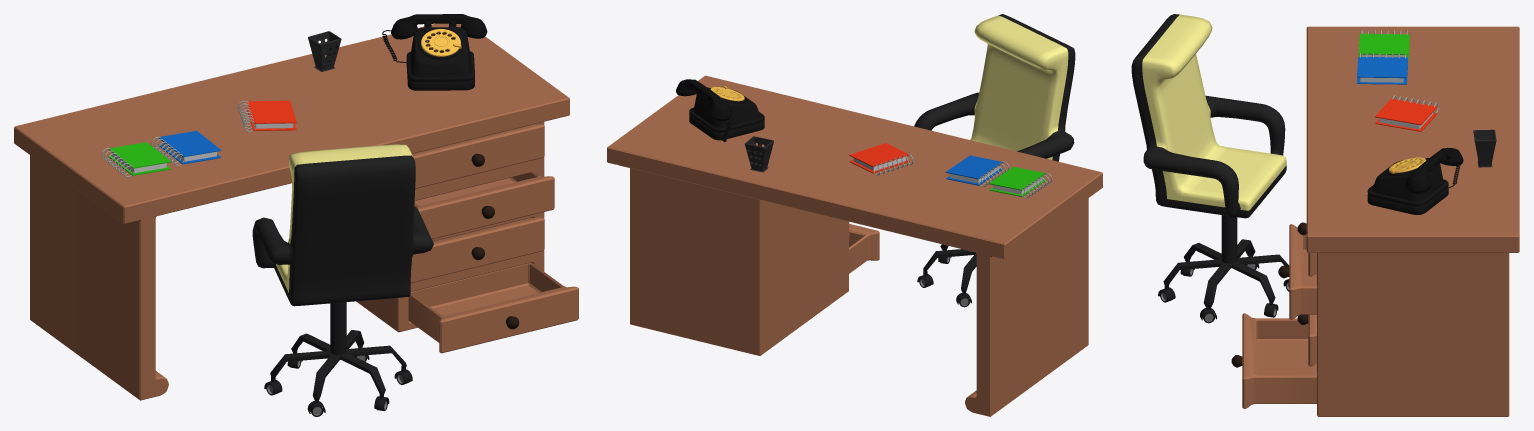
File: Ufficio.glb
3 renders of one model, left to right at view 1: azimuth 30°, elevation 25°; view 2: azimuth 150°, elevation 25°; view 3: azimuth 270°, elevation 25°, orthographic. The views are drawn at different scales.
Visible parts, largest first — view 1: PRINCIPALOFFICEdemoscene_32; view 2: PRINCIPALOFFICEdemoscene_32; view 3: PRINCIPALOFFICEdemoscene_32.
Part boxes in pixels (left/top/right/bottom): PRINCIPALOFFICEdemoscene_32: left=14, top=14, right=578, bottom=416; PRINCIPALOFFICEdemoscene_32: left=607, top=14, right=1102, bottom=416; PRINCIPALOFFICEdemoscene_32: left=1131, top=14, right=1519, bottom=416.
Bounding box in the file's own units: 2.95 × 1.66 × 2.3.
2 materials, 2 textured.
